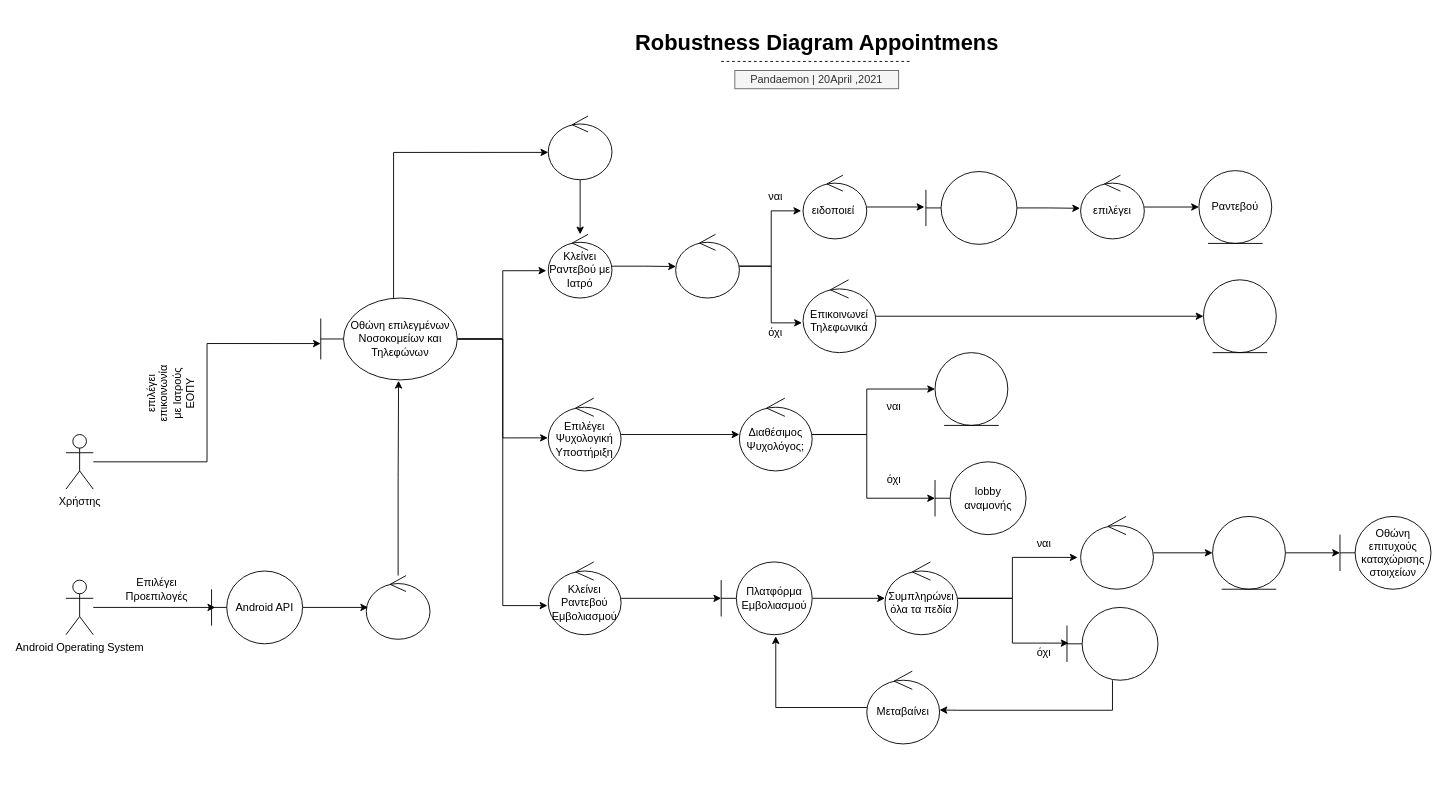
This 1447x785 diagram has some shape labels left out. The box of each missing label's shape, as (x1, y1, x2, y2) in pixels:
Γιατρός διαθέσιμος;: (675, 233, 739, 298)
Επιλέγει και Εμφανίζει: (365, 575, 430, 639)
Κλήση με Ψυχολόγο: (934, 352, 1008, 425)
Οθώνη Διαθέσιμων Ιατρών και ημερών: (925, 171, 1017, 244)
Οθώνη προειδοποίησης: (1066, 607, 1158, 680)
Ραντεβού Εμβολιασμού: (1212, 516, 1285, 589)
Ραντεβού μέσω Τηλεφώνου: (1203, 279, 1276, 353)
Υποβάλει βοηθητικά στοιχεία: (547, 115, 612, 180)
Υποβάλλει: (1080, 516, 1153, 589)
